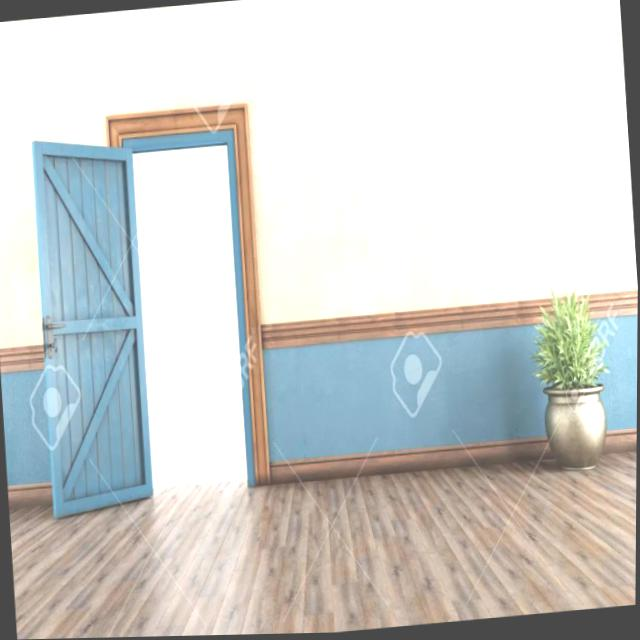open: (19, 71, 287, 536)
